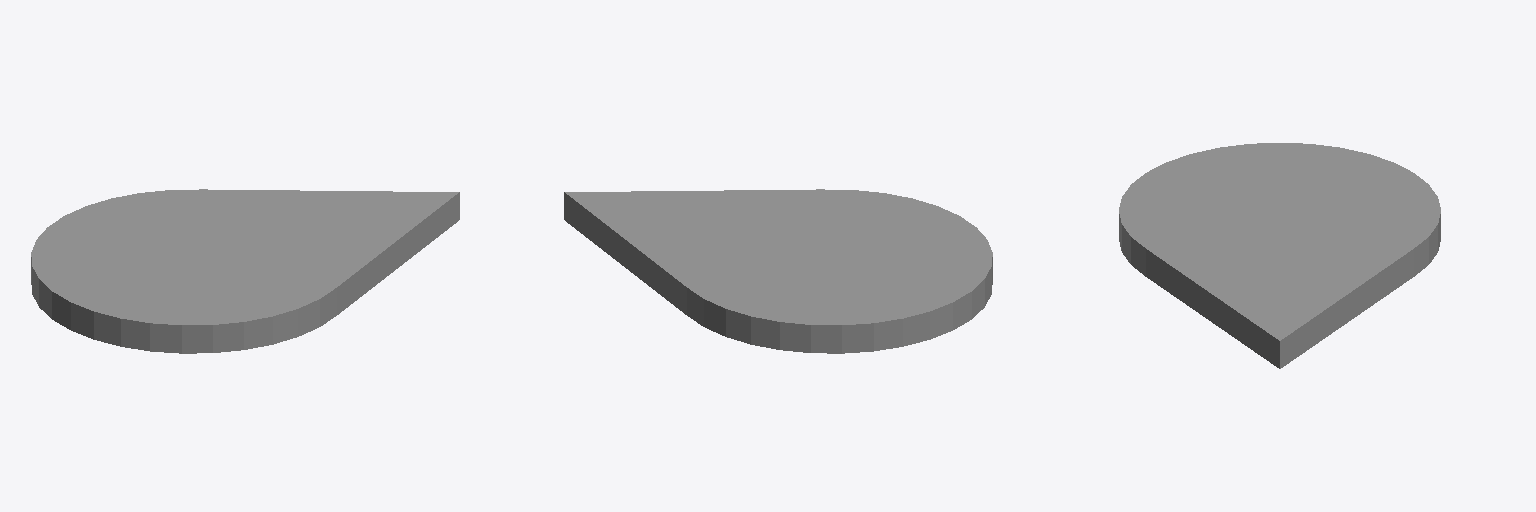
The model's file is markerButton.obj.
3 renders of one model, left to right at view 1: azimuth 30°, elevation 25°; view 2: azimuth 150°, elevation 25°; view 3: azimuth 270°, elevation 25°, orthographic.
Parts seen in each view (by area): view 1: marker_Circle.001; view 2: marker_Circle.001; view 3: marker_Circle.001.
Part boxes in pixels (x1,y1,x2,y2): marker_Circle.001: (31,189,459,353); marker_Circle.001: (564,189,992,353); marker_Circle.001: (1119,143,1440,368).
Bounding box in the file's own units: 2.91 × 0.1932 × 2.